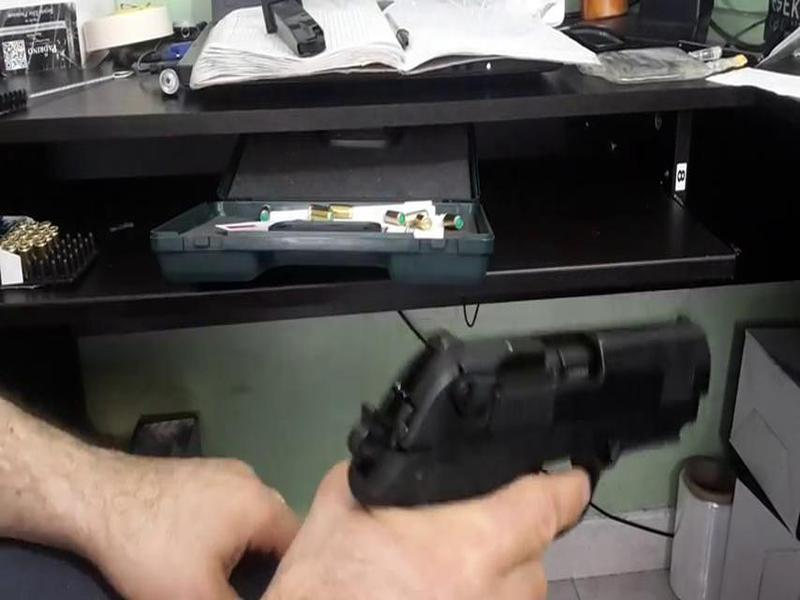Pistola: (319, 286, 723, 521)
